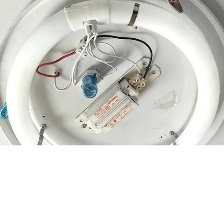light_bulb: (3, 0, 224, 173)
